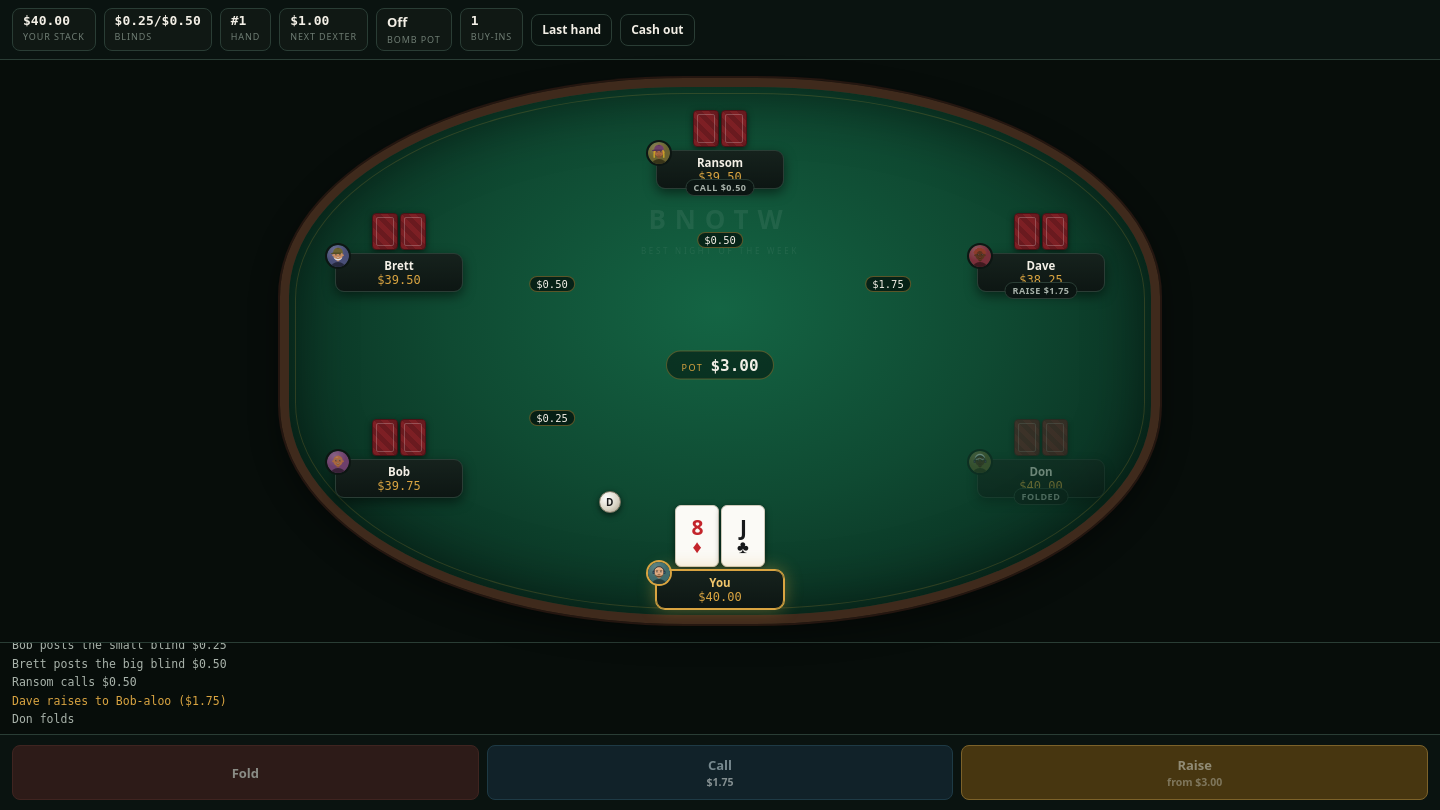
the last hand › opens the replay of the hand just played
The image size is (1440, 810).
(page scrolled)
Click the button "Last hand" at (572, 30), box top-left (531, 14), bottom-right (612, 46)
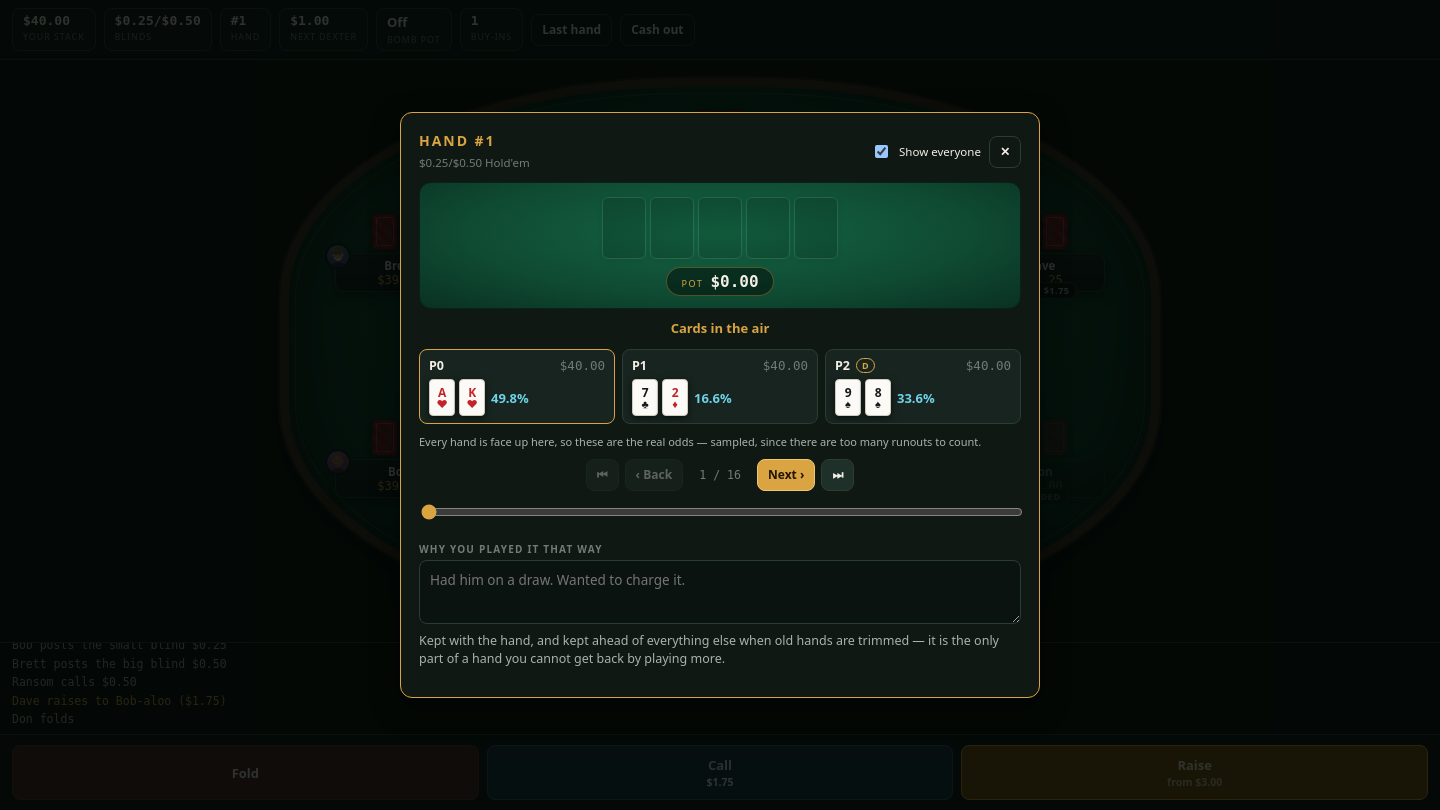
Result: the element with class "replay" is shown at top-left (400, 112), bottom-right (1040, 698)
